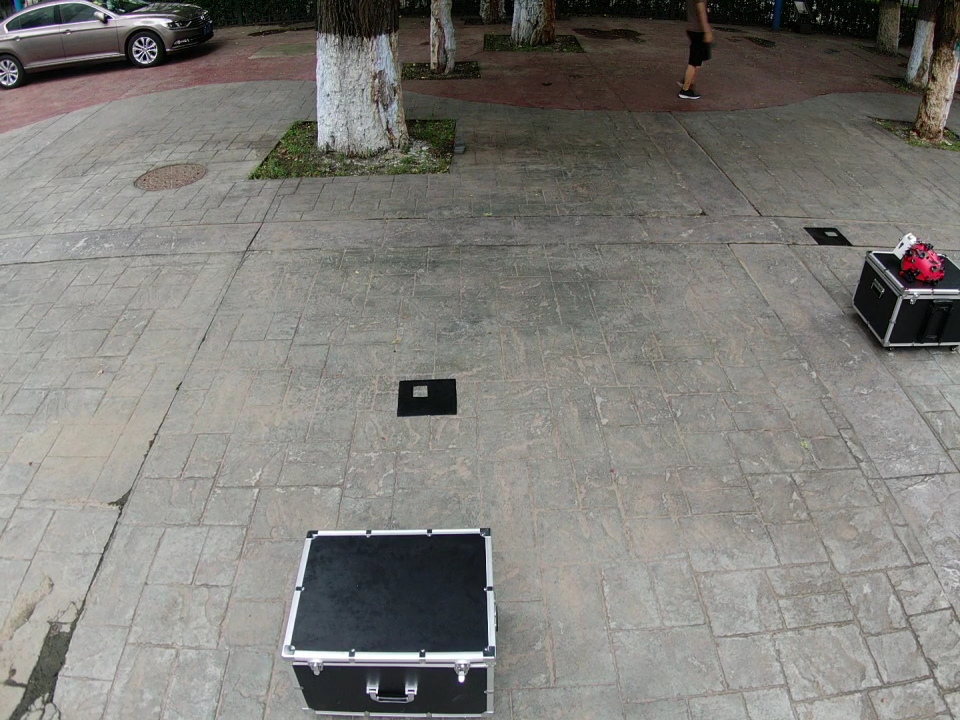box: (282, 528, 496, 716), (853, 250, 960, 346)
helmet: (900, 244, 944, 282)
qrcode: (397, 379, 457, 416), (804, 228, 853, 246)
